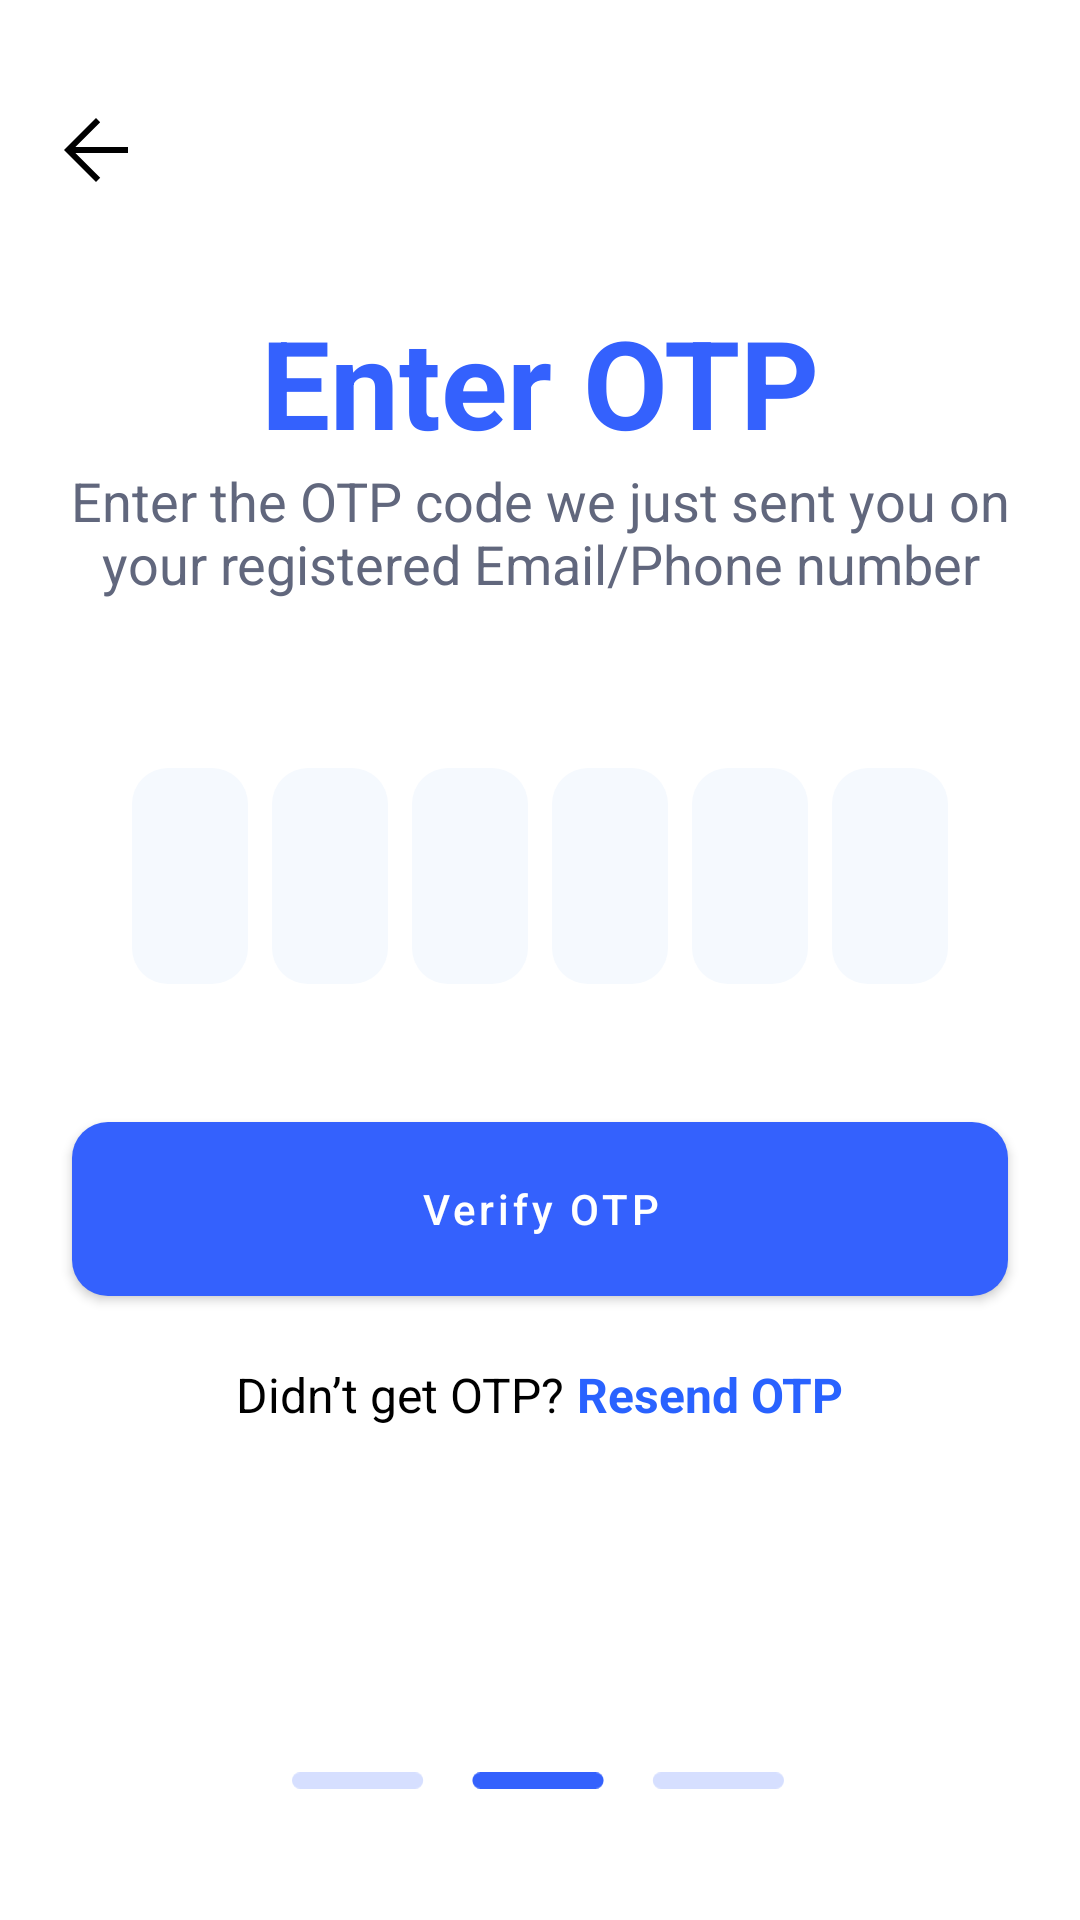

Where to tap for icons on this 1080 x 1920 app screen, as [x,y]:
Back: [96,150]
